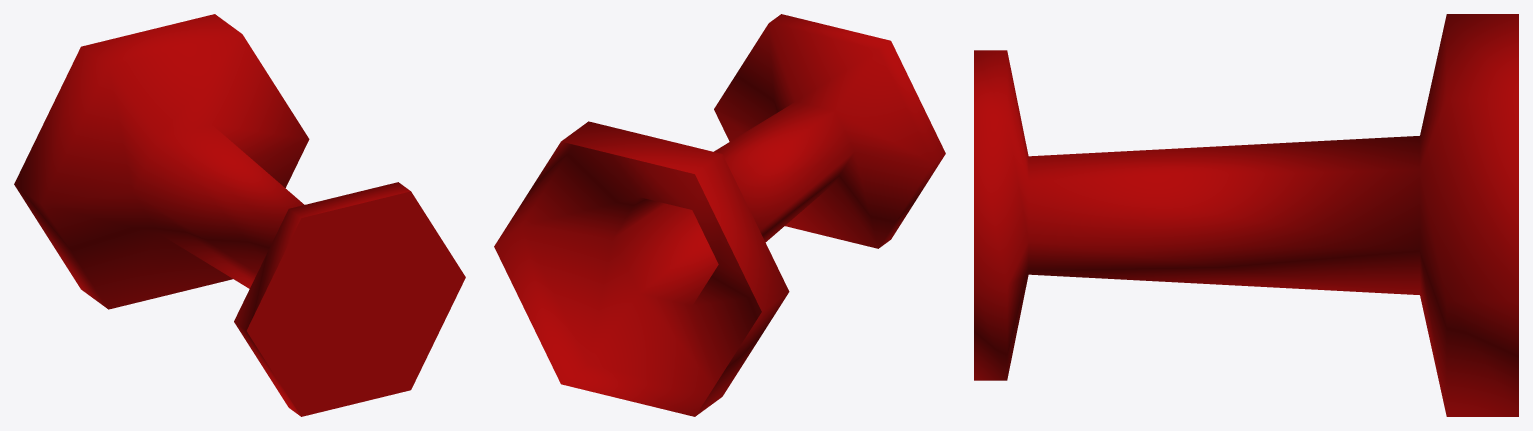
File: Pushpin_Red.fbx
3 views of the same model, side by side, from view 1: azimuth 30°, elevation 25°; view 2: azimuth 150°, elevation 25°; view 3: azimuth 270°, elevation 25° (orthographic). The views are drawn at different scales.
Parts seen in each view (by area): view 1: Pushpin_Red; view 2: Pushpin_Red; view 3: Pushpin_Red.
Boxes of the visible parts, x1,y1,x2,y2 form: Pushpin_Red: [14, 14, 465, 416]; Pushpin_Red: [494, 14, 945, 416]; Pushpin_Red: [974, 14, 1518, 416].
Size of the model in its own units: 0.9 by 0.7794 by 1.21.
